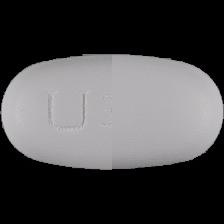49702-209: (0, 0, 224, 224)
